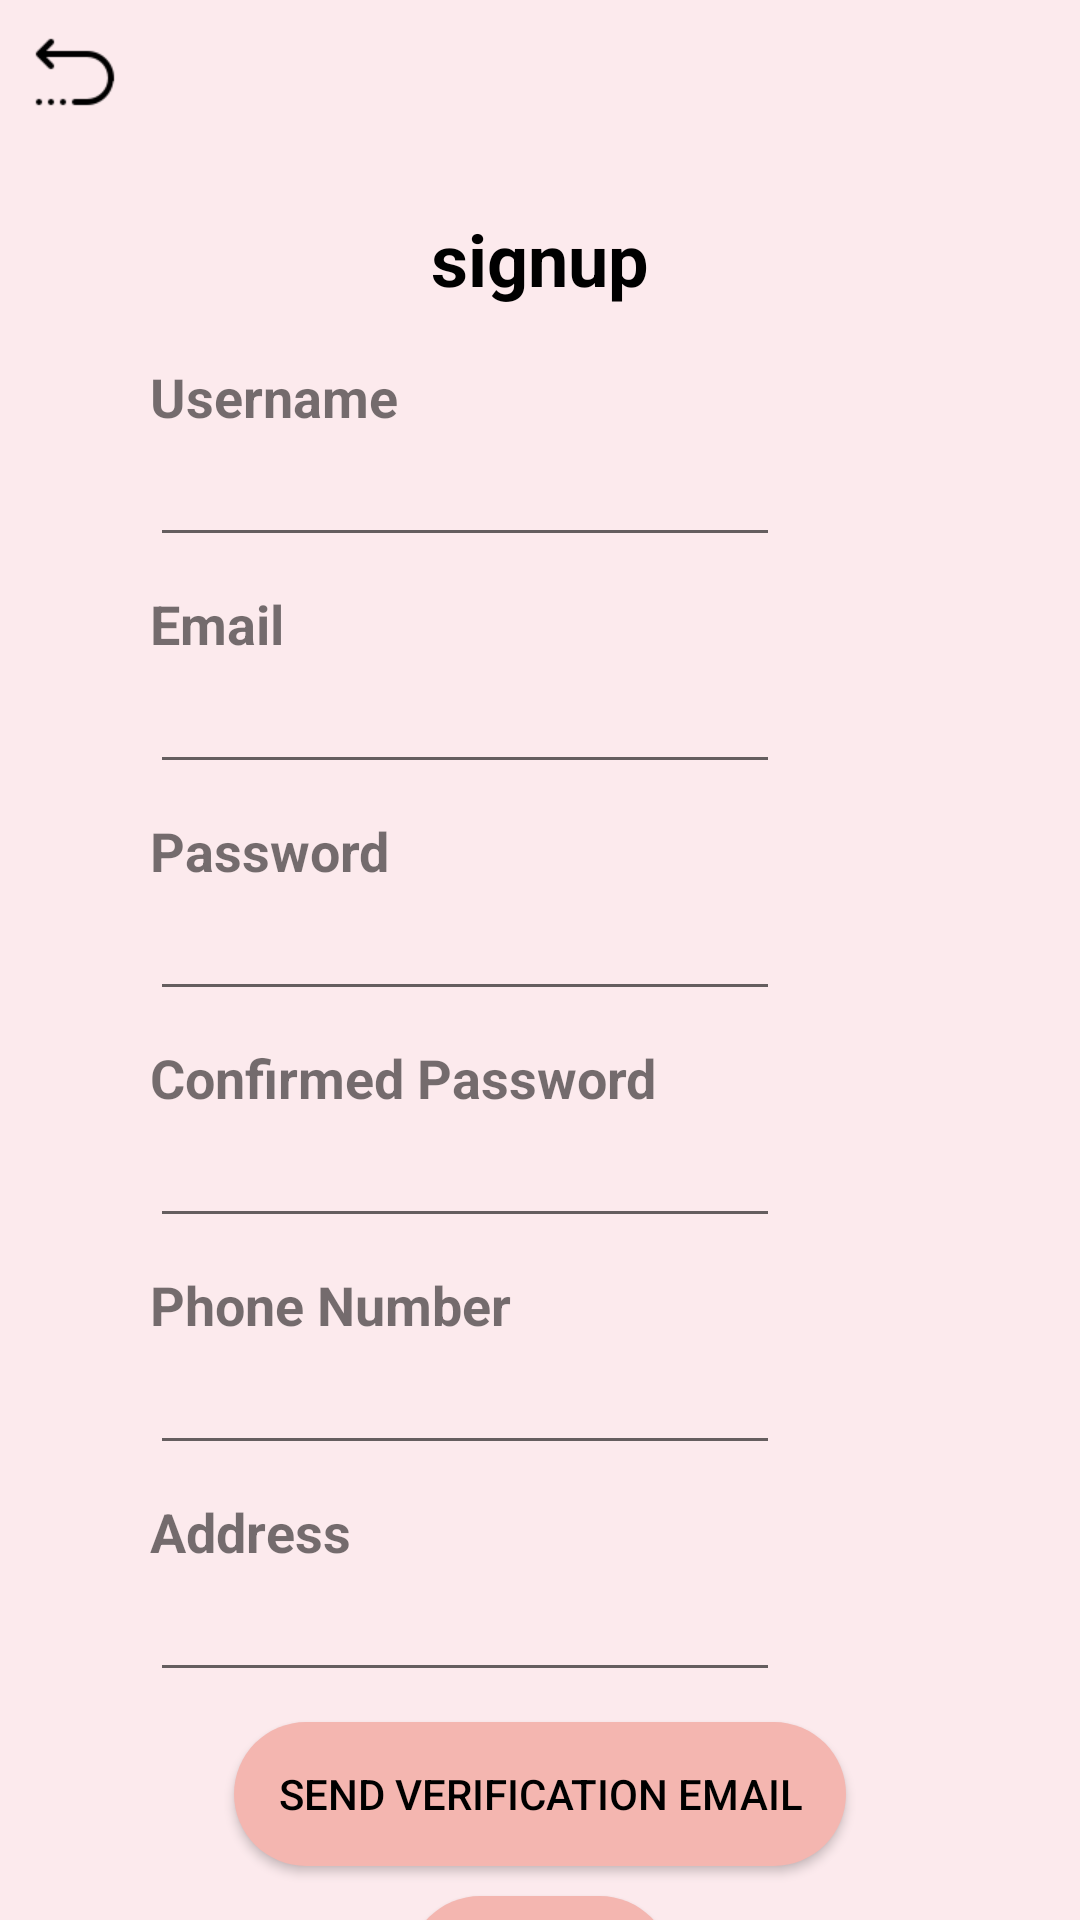

Icon click points for this 1080px×1920px phone screenshot, format (x=x, y=y):
return: (x=75, y=72)
